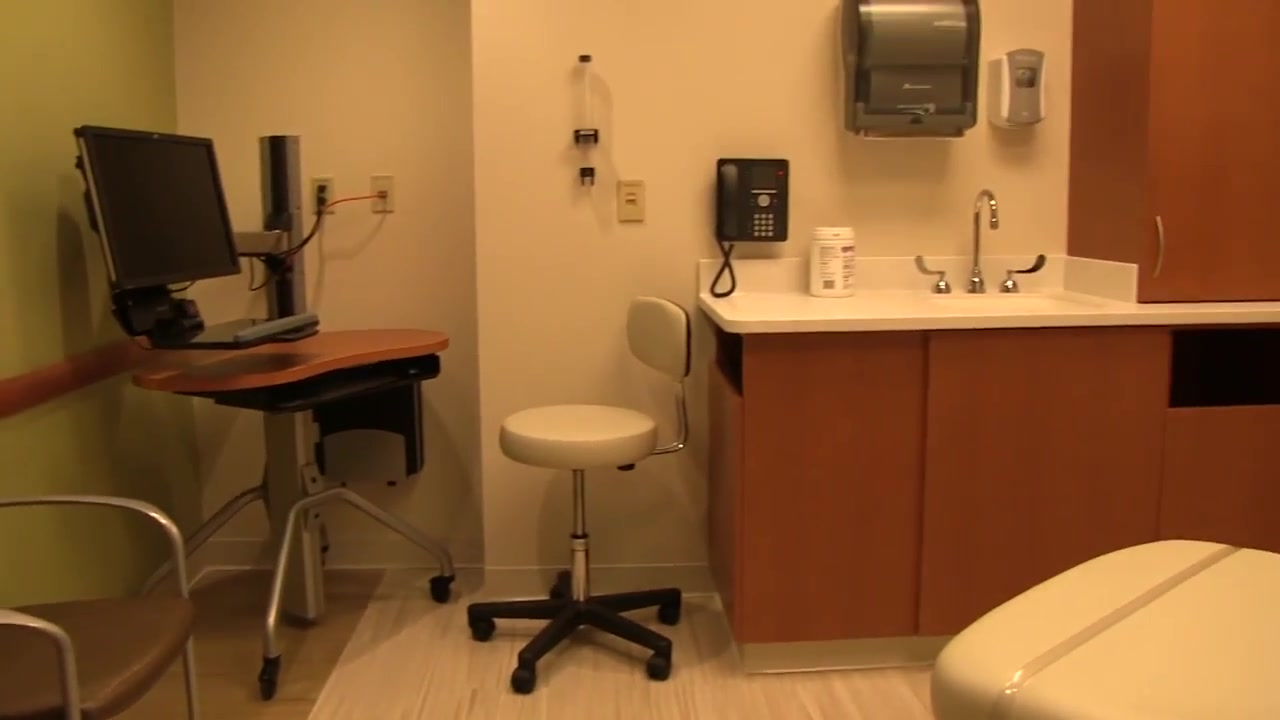cabinet: (1070, 1, 1280, 298)
chair: (466, 296, 692, 693), (1, 490, 200, 720)
computer: (71, 120, 241, 348)
counter: (699, 289, 1280, 670)
countertop: (701, 289, 1138, 334)
dispenser: (840, 1, 982, 144), (986, 47, 1049, 131)
exam_table: (931, 538, 1280, 720)
faucet: (913, 187, 1046, 292)
handle: (1149, 217, 1168, 279)
sink: (930, 293, 1051, 311)
table: (132, 328, 456, 699)
telephone: (710, 160, 792, 301)
